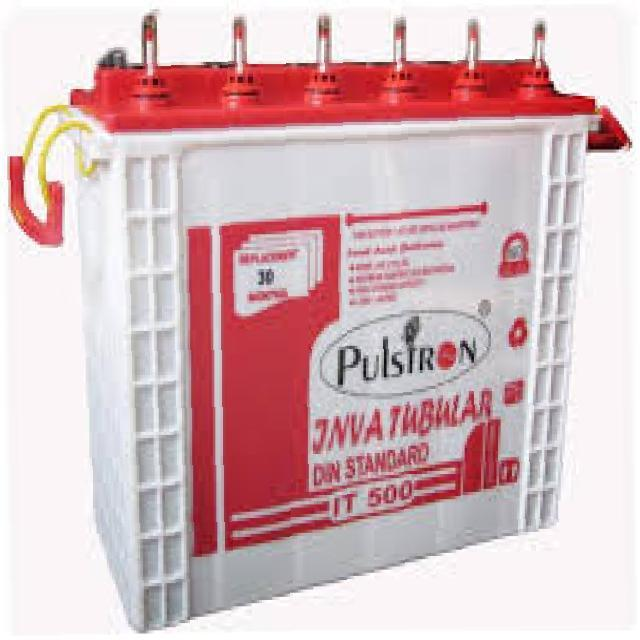Battery: (21, 9, 635, 634)
